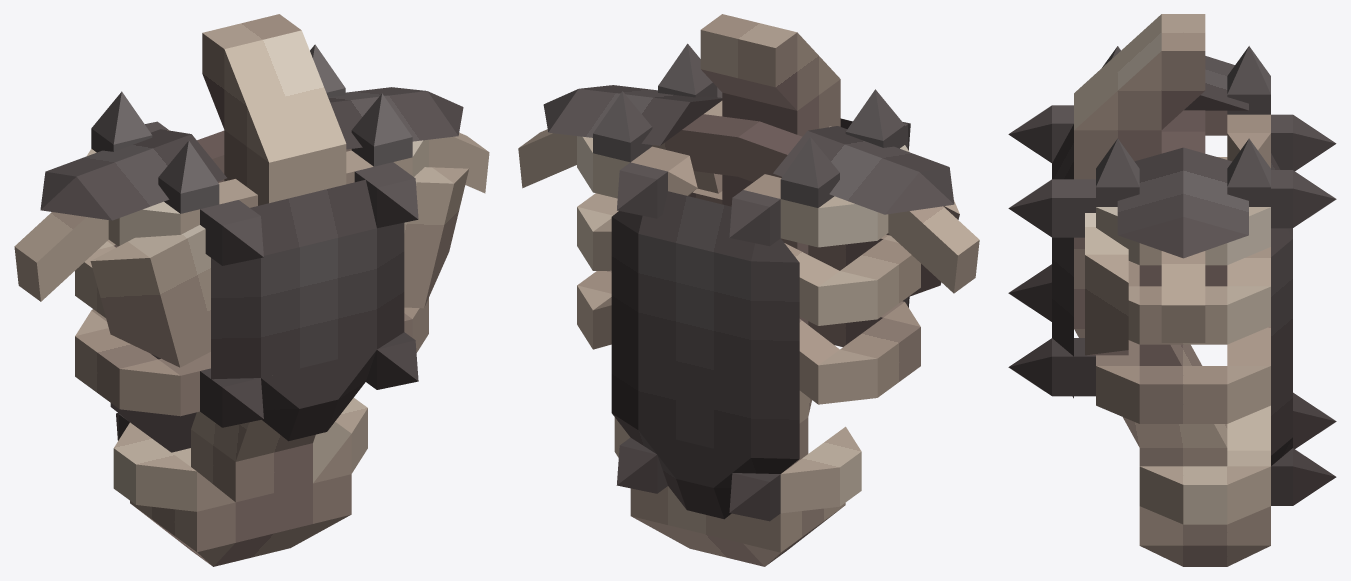
The model's file is torso_reinforced.obj.
The picture shows the model from 3 angles, left to right: view 1: azimuth 30°, elevation 25°; view 2: azimuth 150°, elevation 25°; view 3: azimuth 270°, elevation 25°; orthographic projection. The views are drawn at different scales.
Visible parts, largest first — view 1: TORSO_BONE_ARMOR_Cube.433; view 2: TORSO_BONE_ARMOR_Cube.433; view 3: TORSO_BONE_ARMOR_Cube.433.
Boxes of the visible parts, x1,y1,x2,y2 form: TORSO_BONE_ARMOR_Cube.433: (14, 14, 489, 566); TORSO_BONE_ARMOR_Cube.433: (518, 14, 979, 566); TORSO_BONE_ARMOR_Cube.433: (1008, 14, 1336, 566).
Bounding box in the file's own units: 0.7319 × 0.8125 × 0.4688.
